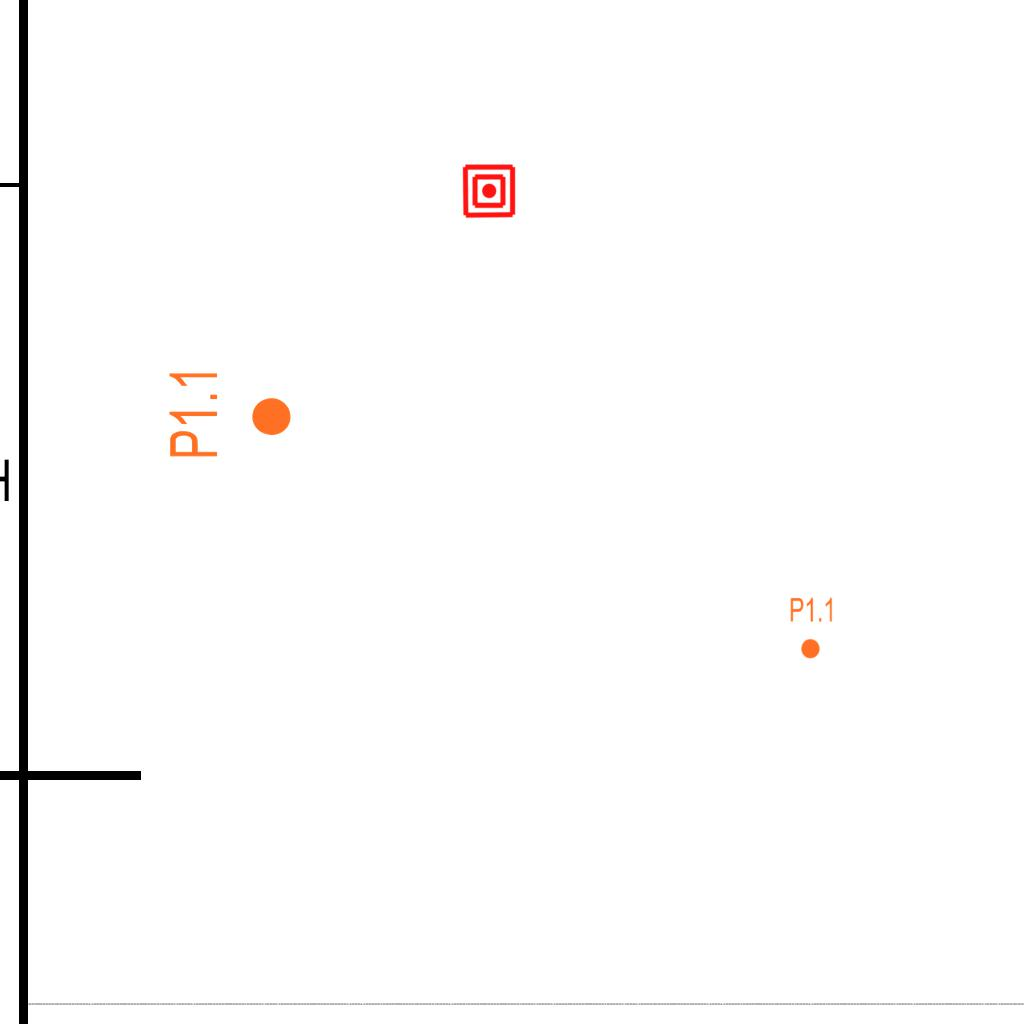Downlight_LED_Einbauleuchten_Flur: (166, 367, 294, 460), (789, 596, 835, 660)
NAM-Nichtautomatischer_Melder: (461, 163, 517, 219)
